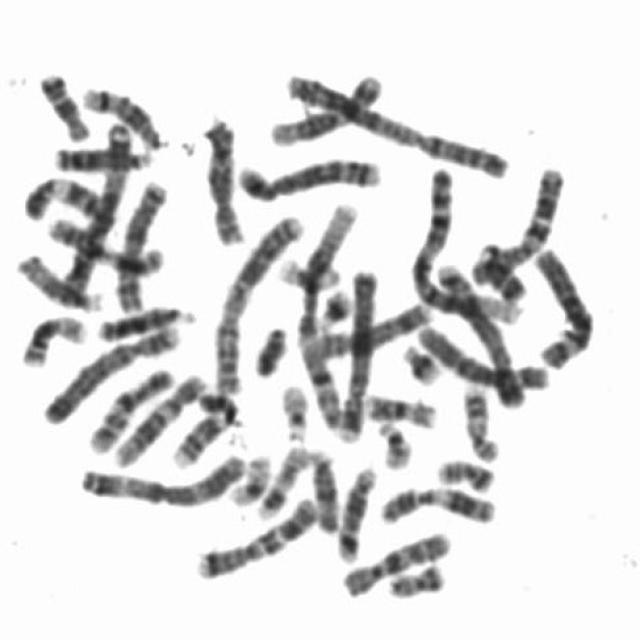A1: (402, 160, 527, 325), (288, 190, 363, 442)
A2: (273, 62, 514, 180), (204, 202, 309, 398)
A3: (50, 113, 135, 306), (71, 444, 250, 509)
B4: (35, 313, 184, 427), (330, 257, 382, 443)
B5: (431, 258, 530, 409), (229, 146, 385, 202)
C10: (331, 519, 455, 599), (79, 358, 177, 456)
C11: (40, 208, 166, 276), (370, 477, 500, 526)
C12: (104, 362, 212, 469), (262, 64, 386, 147)
C6: (409, 314, 553, 392), (526, 236, 598, 371)
C7: (463, 155, 569, 289), (187, 486, 322, 582)
C8: (305, 292, 436, 362), (195, 108, 247, 246)
C9: (163, 382, 243, 471), (16, 167, 108, 223)
D13: (88, 294, 196, 343), (46, 136, 154, 172)
D14: (74, 76, 170, 151), (327, 456, 380, 564)
D15: (8, 242, 106, 312), (301, 442, 343, 536)
E16: (13, 306, 91, 368), (356, 384, 439, 430)
E17: (250, 436, 312, 521), (455, 375, 503, 464)
E18: (31, 61, 94, 143), (466, 234, 530, 304)
F19: (220, 445, 274, 508), (270, 249, 346, 292)
F20: (378, 553, 449, 600), (428, 449, 498, 494)
G21: (394, 334, 446, 387), (312, 278, 356, 332)
G22: (272, 373, 311, 442), (370, 412, 416, 470)
X: (107, 170, 172, 316)
Y: (244, 315, 290, 379)
